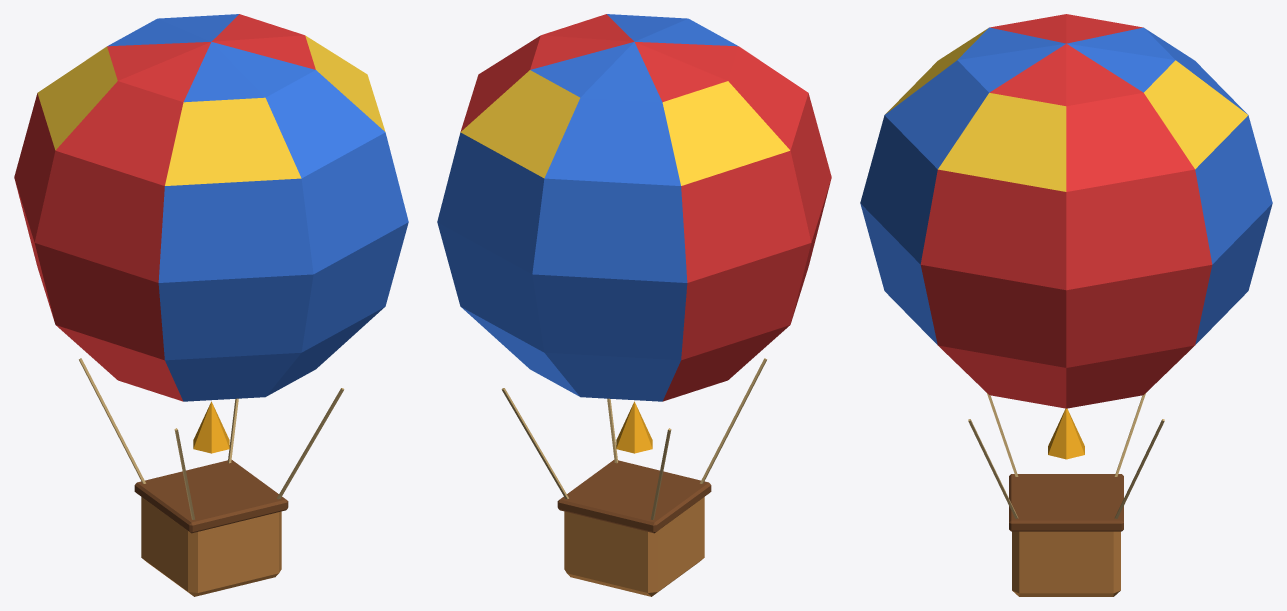
File: HotAirBalloon.fbx
The picture shows the model from 3 angles, left to right: view 1: azimuth 30°, elevation 25°; view 2: azimuth 150°, elevation 25°; view 3: azimuth 270°, elevation 25°; orthographic projection.
Visible parts, largest first — view 1: HotAirBalloon; view 2: HotAirBalloon; view 3: HotAirBalloon.
Part boxes in pixels (box(x1,y1,x2,y2)): HotAirBalloon: box(14, 14, 408, 596); HotAirBalloon: box(437, 14, 831, 596); HotAirBalloon: box(860, 14, 1272, 596).
Bounding box in the file's own units: 6.8 × 9.7 × 6.8.
1 material, 1 textured.
